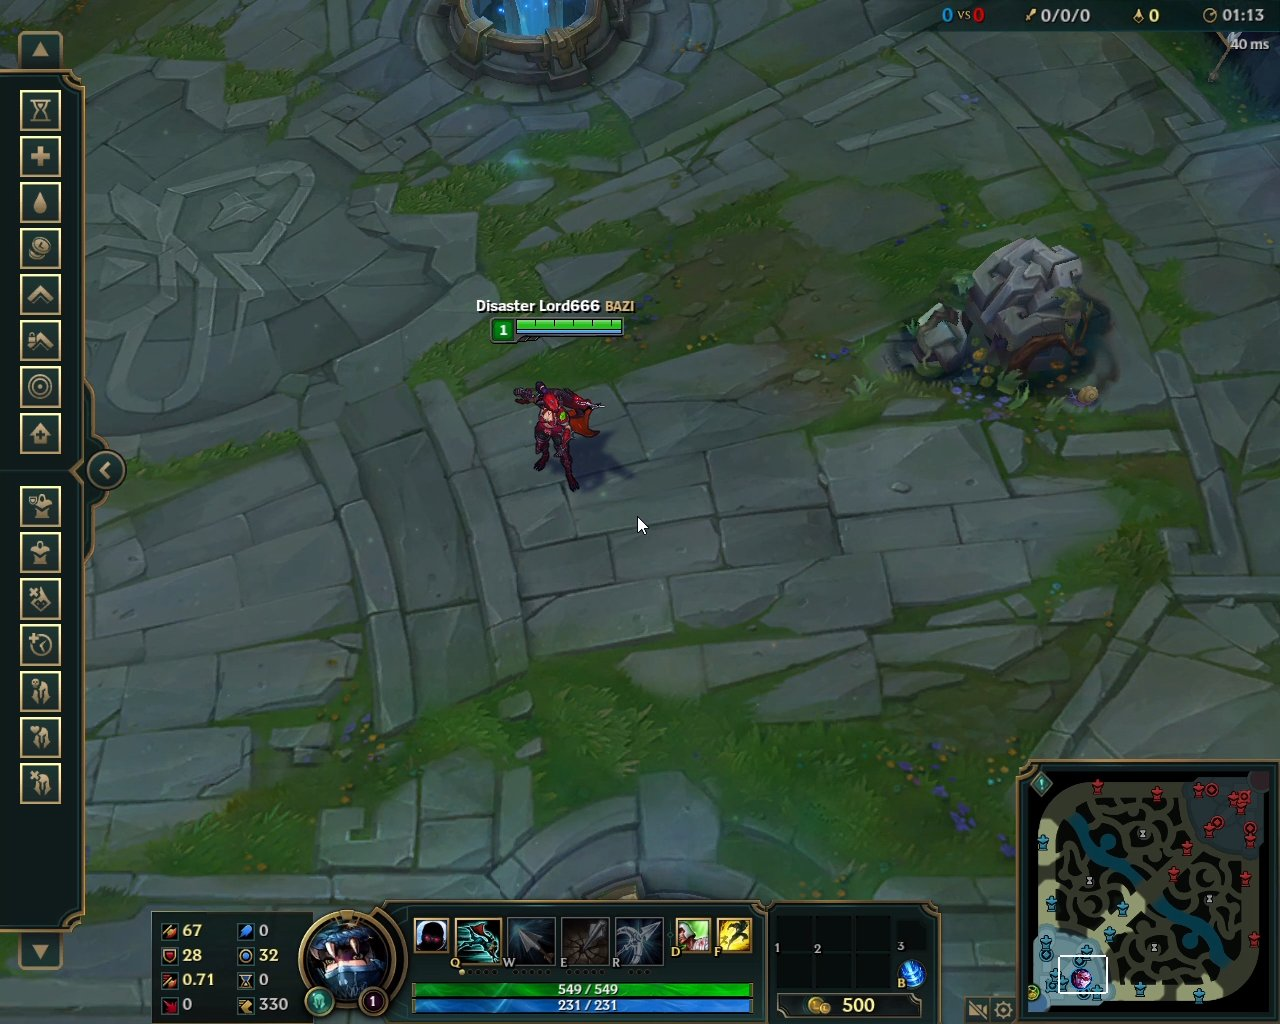Vayne: (506, 375, 608, 497)
